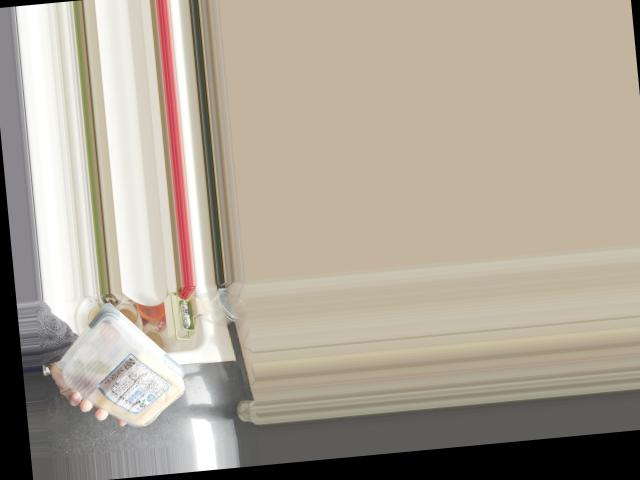cheese: (55, 314, 189, 426)
